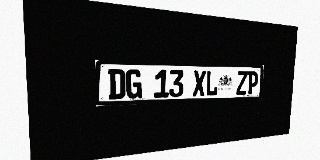1: (154, 70, 169, 98)
3: (169, 70, 184, 97)
D: (108, 69, 125, 99)
G: (126, 69, 142, 99)
L: (205, 70, 219, 96)
P: (247, 71, 258, 94)
X: (192, 70, 206, 96)
Z: (236, 71, 248, 95)
